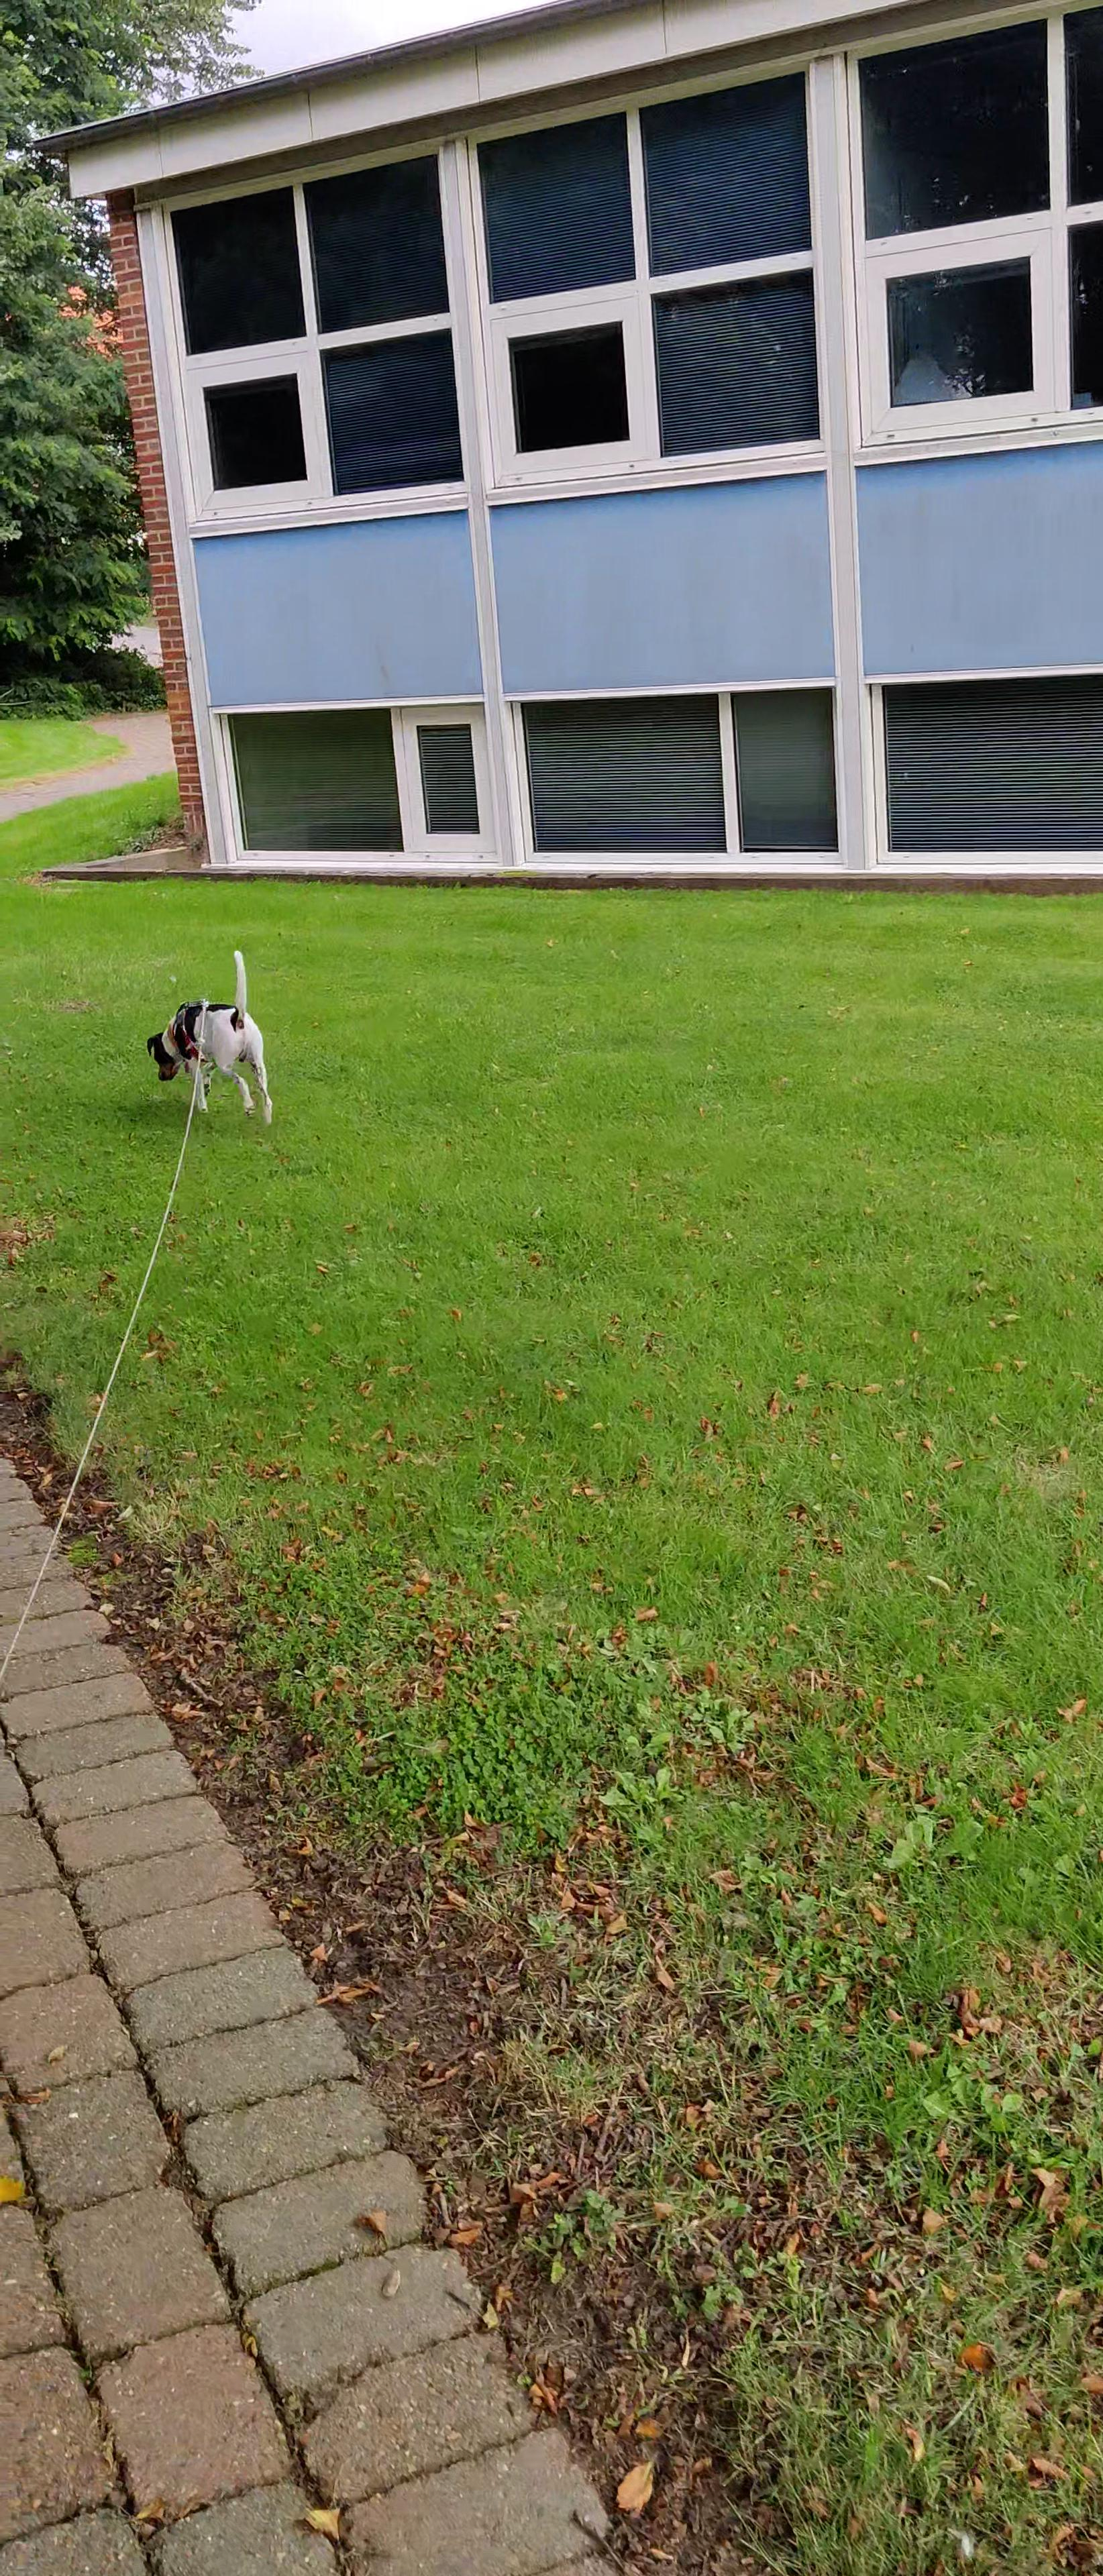Dog: (143, 946, 276, 1125)
